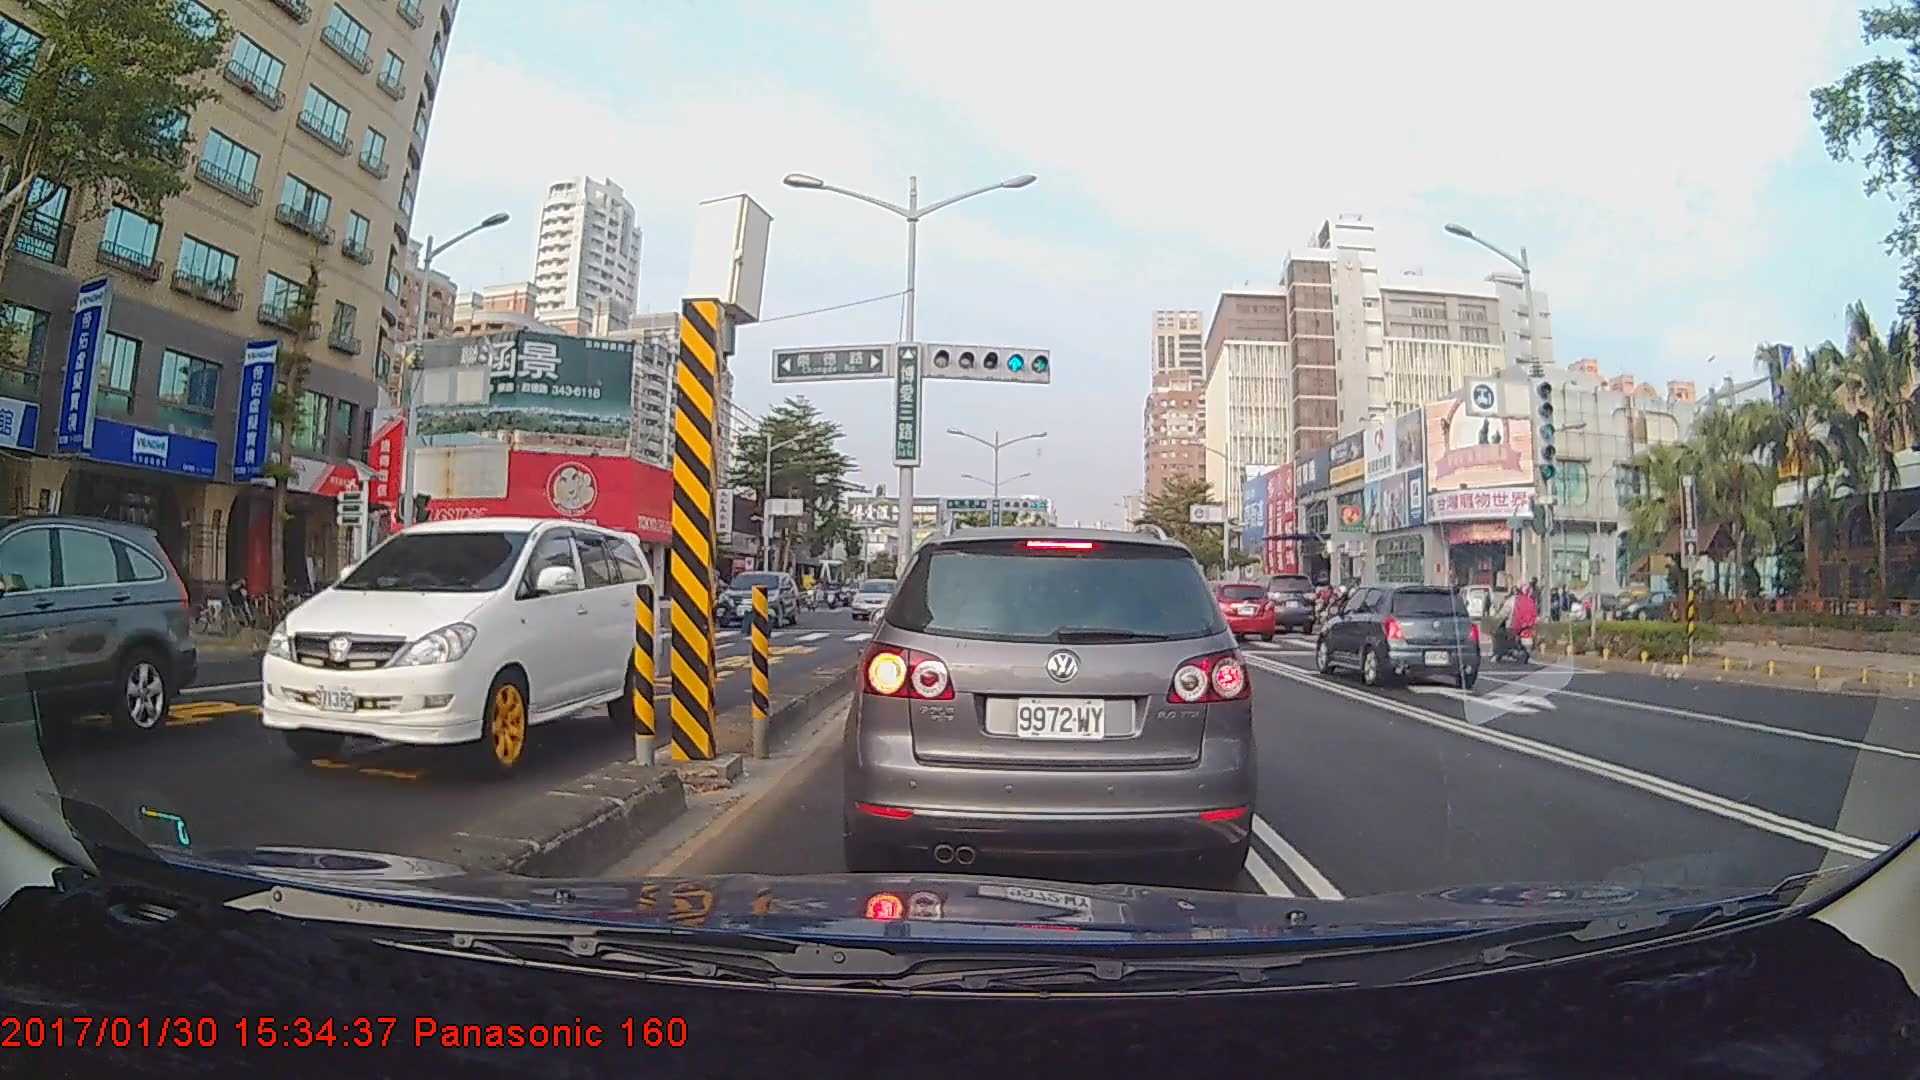rider: (1485, 582, 1548, 668)
vehicle: (853, 524, 1249, 884), (258, 514, 667, 774), (0, 512, 198, 756), (1314, 580, 1483, 687), (1229, 570, 1316, 635), (714, 569, 800, 626), (1196, 580, 1277, 642), (850, 577, 906, 618)
